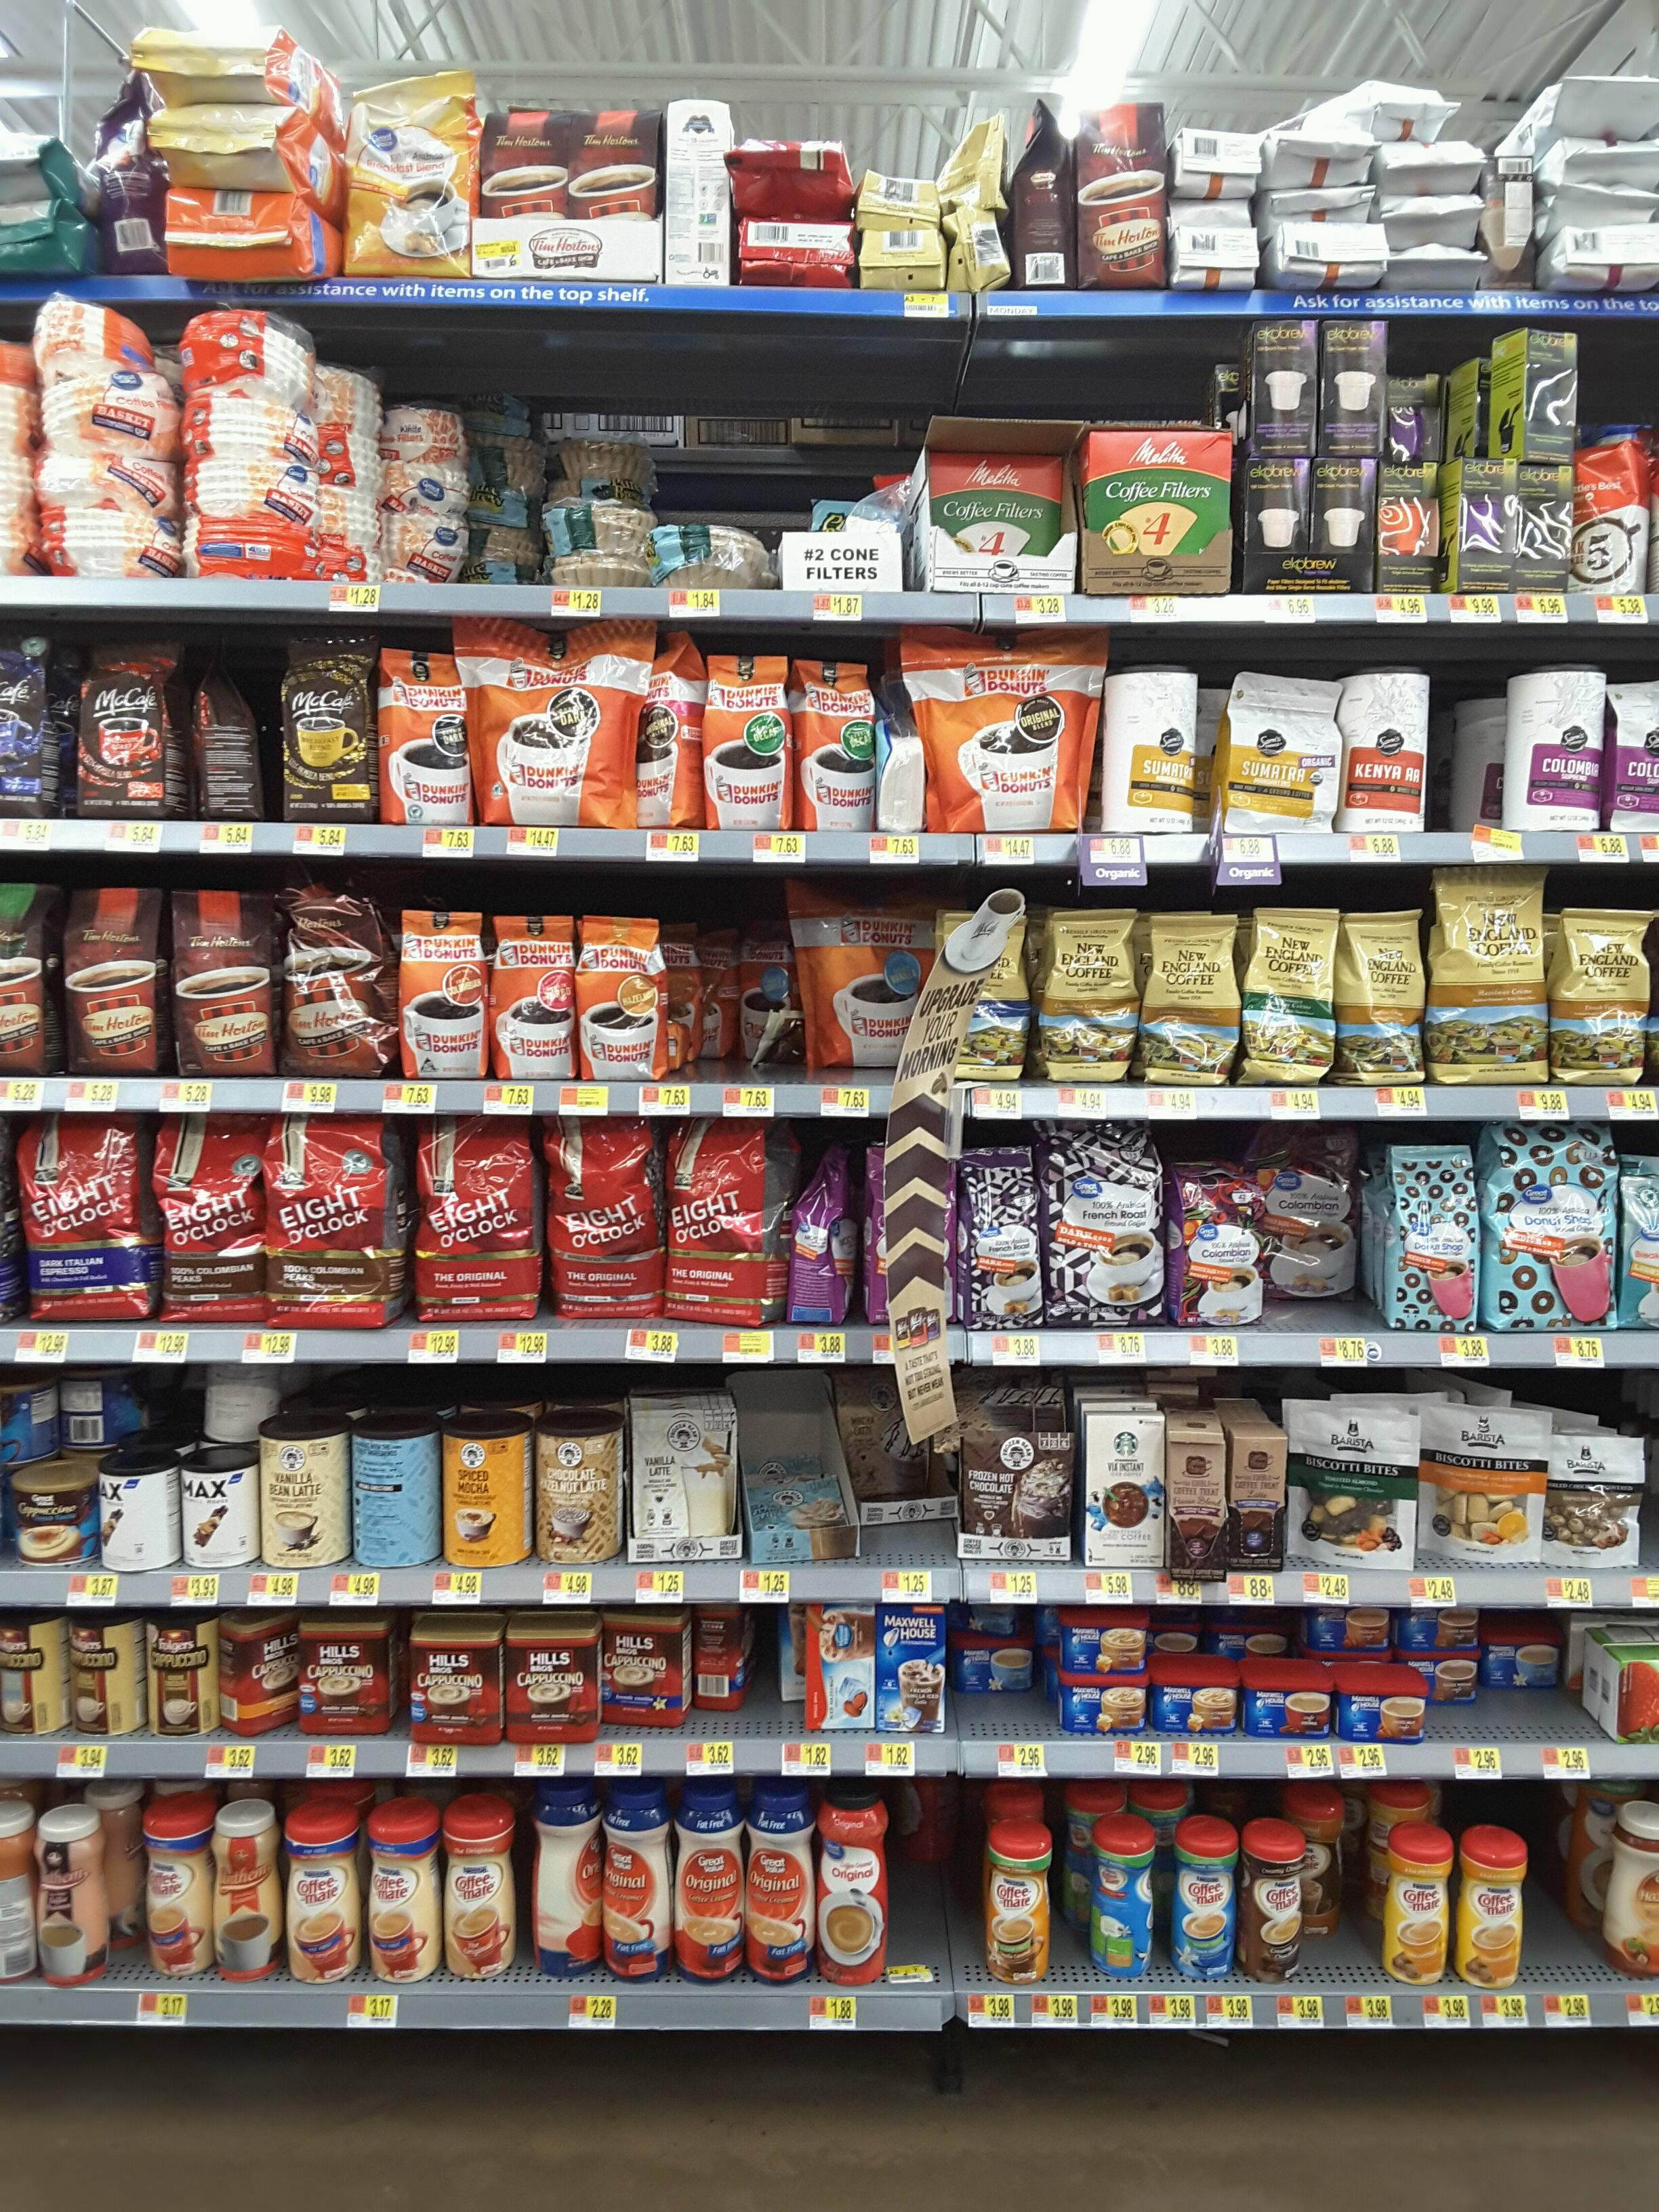misalignment: (188, 641, 274, 819), (1485, 326, 1582, 465), (789, 1132, 857, 1325), (821, 479, 918, 587), (216, 1609, 296, 1735), (692, 1608, 751, 1714)
